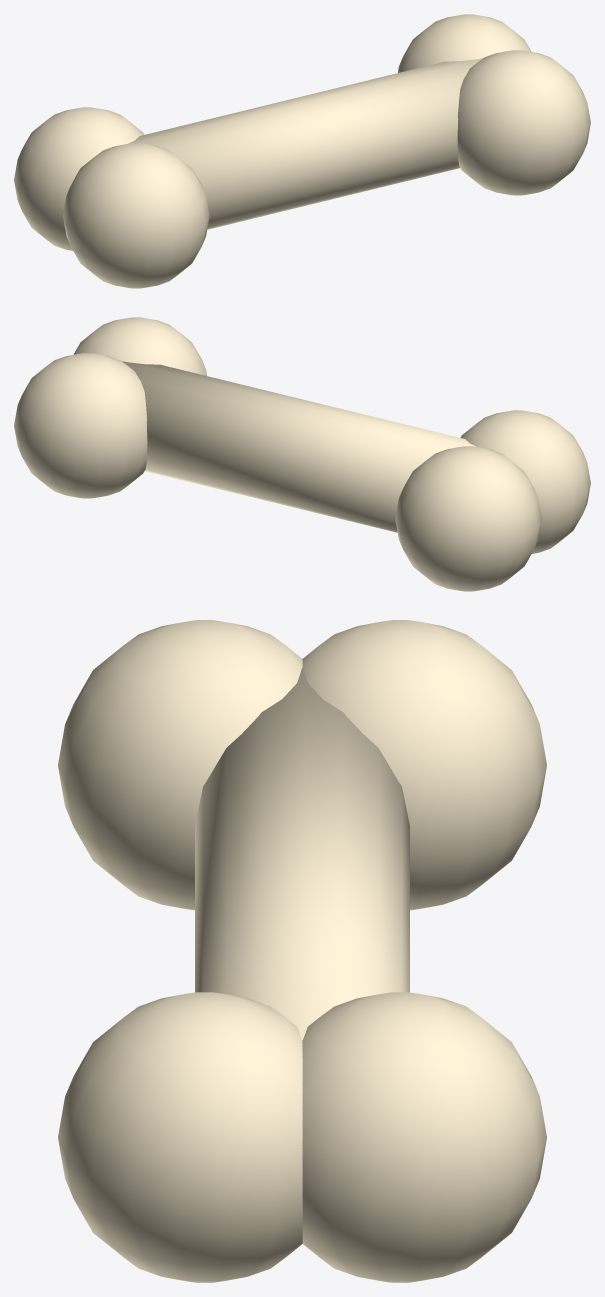
The model's file is bone.glb.
The picture shows the model from 3 angles, top to bottom: view 1: azimuth 30°, elevation 25°; view 2: azimuth 150°, elevation 25°; view 3: azimuth 270°, elevation 25°; orthographic projection. The views are drawn at different scales.
Parts seen in each view (by area): view 1: Shaft, Knob-0.45-0.1, Knob0.45-0.1, Knob-0.450.1, Knob0.450.1; view 2: Shaft, Knob-0.450.1, Knob0.450.1, Knob-0.45-0.1, Knob0.45-0.1; view 3: Knob0.45-0.1, Knob0.450.1, Shaft, Knob-0.45-0.1, Knob-0.450.1.
Boxes of the visible parts, x1=… form: Shaft: x1=128, y1=58, x2=482, y2=229; Knob-0.45-0.1: x1=63, y1=143, x2=209, y2=288; Knob0.45-0.1: x1=457, y1=50, x2=590, y2=195; Knob-0.450.1: x1=14, y1=107, x2=144, y2=250; Knob0.450.1: x1=398, y1=14, x2=531, y2=72; Shaft: x1=122, y1=361, x2=476, y2=532; Knob-0.450.1: x1=395, y1=446, x2=541, y2=591; Knob0.450.1: x1=14, y1=353, x2=147, y2=498; Knob-0.45-0.1: x1=460, y1=410, x2=590, y2=553; Knob0.45-0.1: x1=73, y1=317, x2=206, y2=375; Knob0.45-0.1: x1=58, y1=992, x2=302, y2=1282; Knob0.450.1: x1=302, y1=992, x2=546, y2=1282; Shaft: x1=195, y1=668, x2=409, y2=1039; Knob-0.45-0.1: x1=58, y1=620, x2=302, y2=910; Knob-0.450.1: x1=302, y1=620, x2=546, y2=910.
Size of the model in its own units: 1.2 by 0.3 by 0.5.
